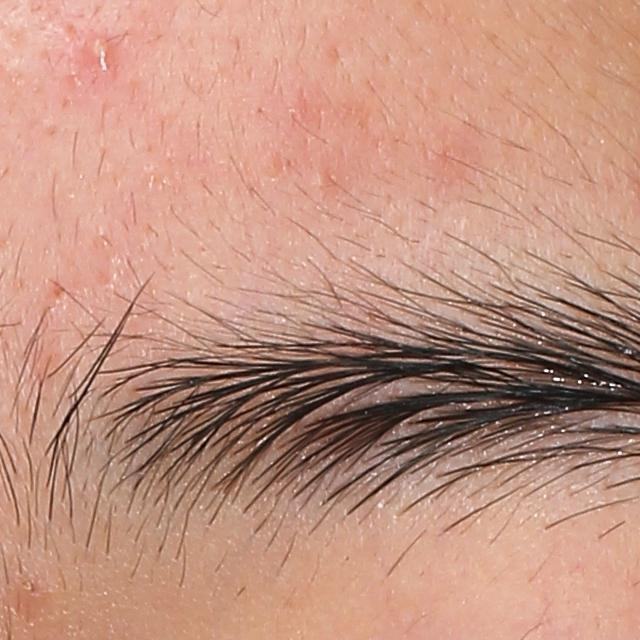comedo: (310, 167, 335, 190)
pustule: (81, 31, 114, 65)
